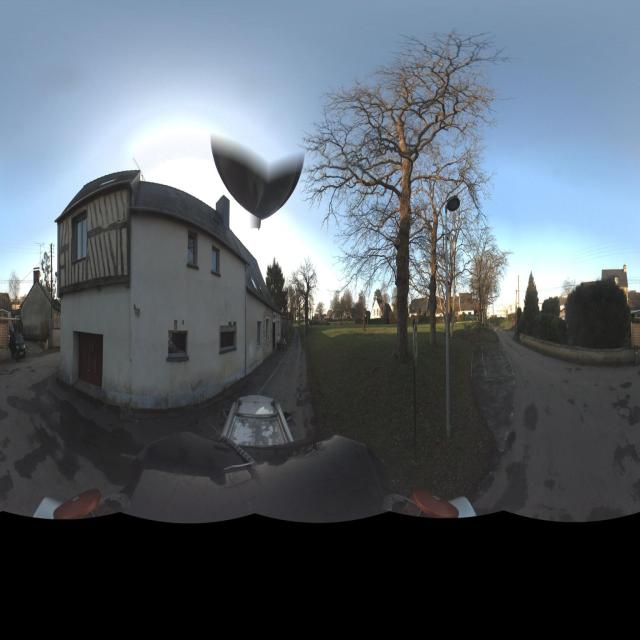car: (9, 332, 26, 360)
